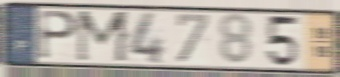4: (128, 10, 168, 66)
5: (264, 13, 300, 69)
7: (174, 12, 211, 65)
8: (216, 13, 257, 69)
M: (75, 10, 132, 65)
P: (38, 9, 81, 62)
